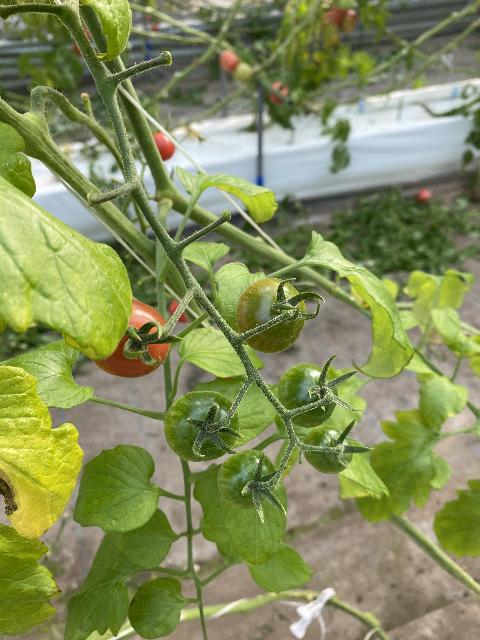l_fully_ripened: (89, 299, 171, 378)
l_green: (164, 390, 240, 462), (278, 363, 339, 428), (218, 449, 277, 510), (302, 423, 353, 475)
l_half_ripened: (236, 277, 307, 353)
